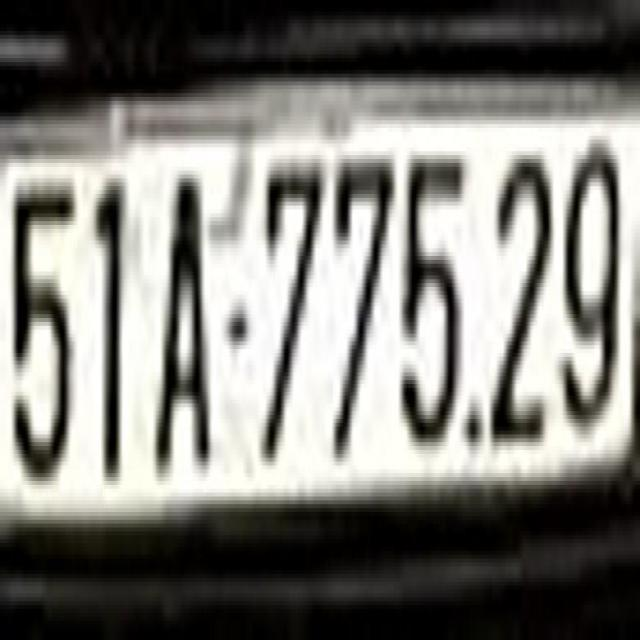1: (85, 144, 134, 492)
2: (488, 117, 547, 470)
5: (398, 128, 464, 458), (10, 163, 76, 489)
7: (328, 109, 393, 477), (261, 101, 320, 469)
9: (560, 105, 622, 454)
A: (154, 116, 212, 496)
